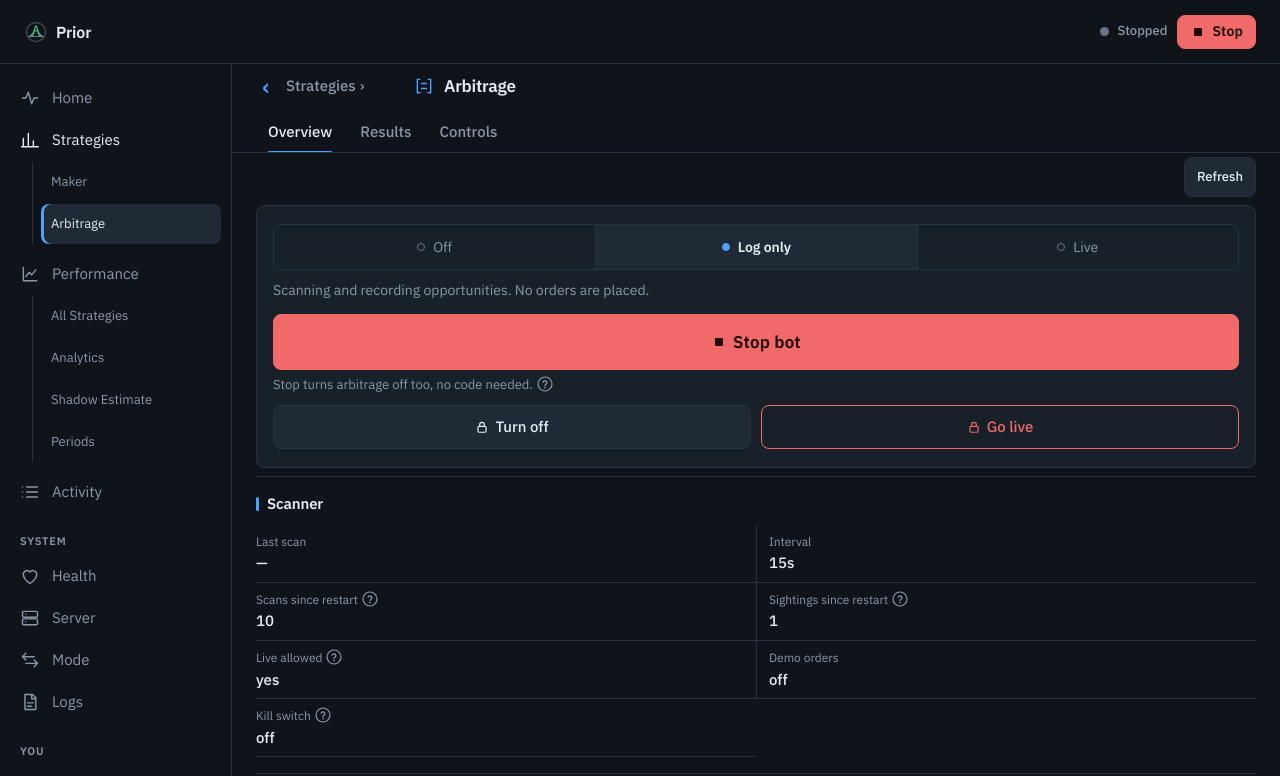
Arbitrage page › Stop from the arb page sends no 2FA and reloads arb data
What coordinates should you click on to do the following:
click the button with aria-label "stop the bot"
I would click on:
 (756, 342)
Its box is left=273, top=314, right=1239, bottom=370.
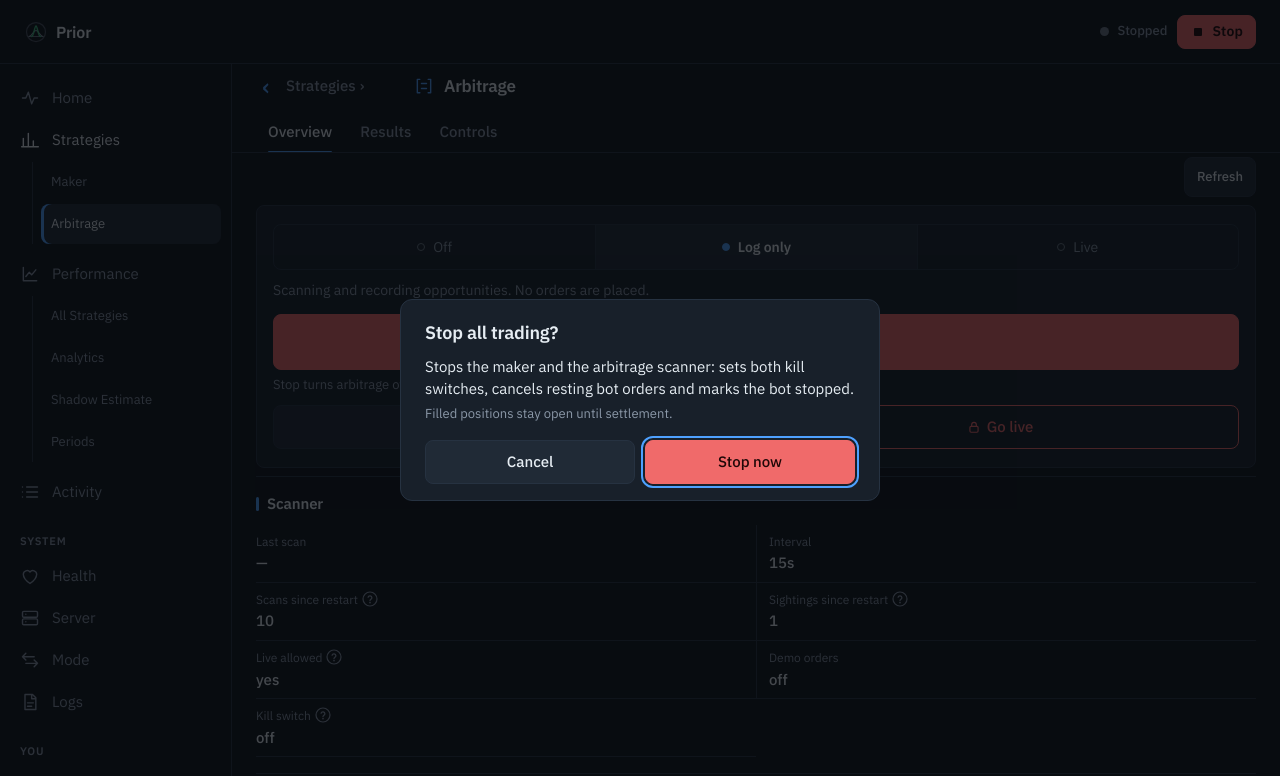
What coordinates should you click on to do the following:
click the button "Stop now"
I would click on:
 (750, 462)
Its box is left=645, top=440, right=855, bottom=484.
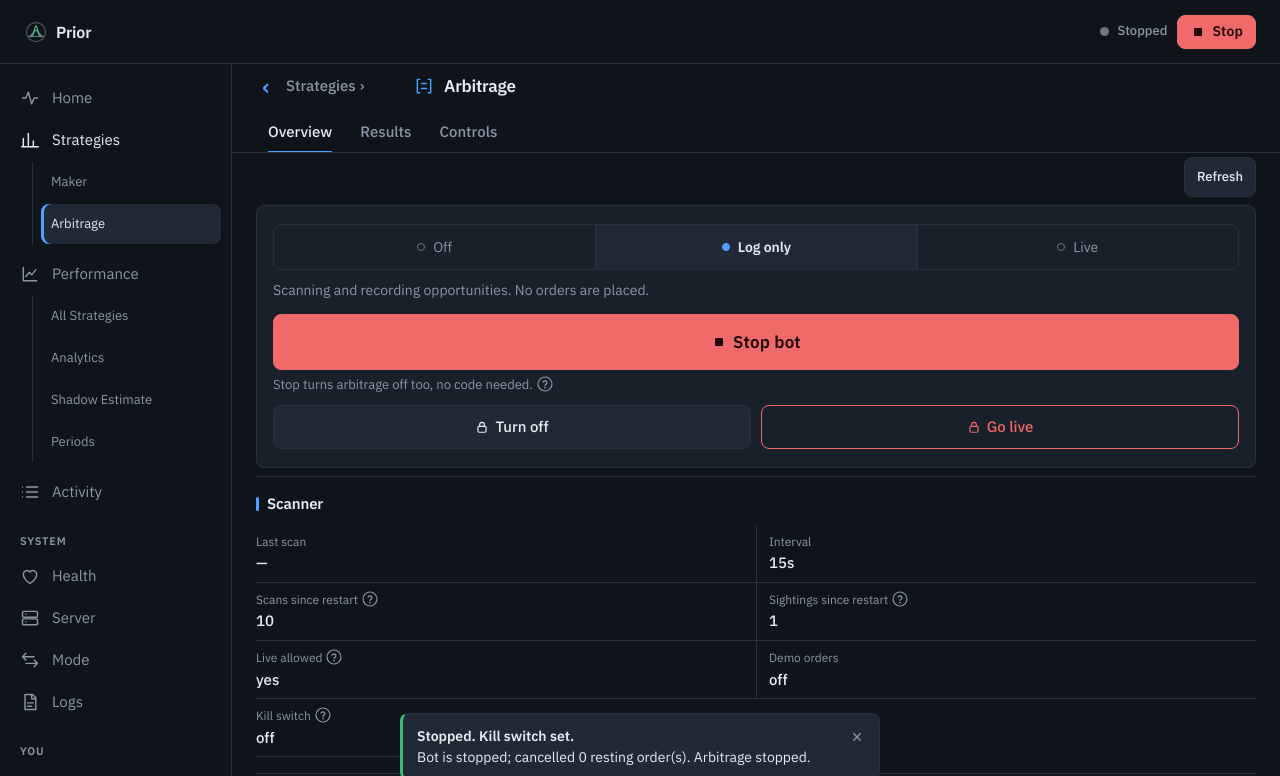
Expected: the text "Arbitrage stopped" is shown, left=417, top=748, right=811, bottom=766
